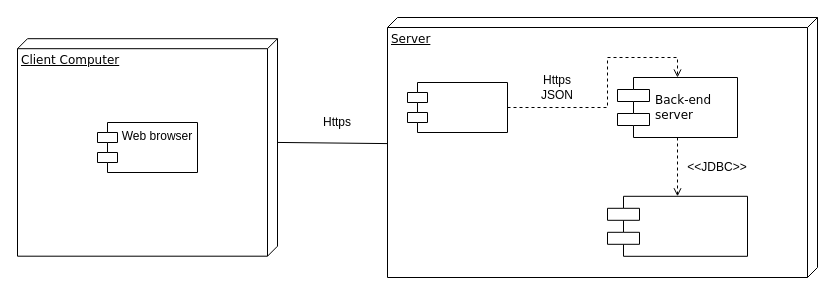
Some shapes in this 835 by 295 pixel diagram are drawn without their labels. The centre of each missing label's shape, as x and y in pixels:
Angular Server: the point at 457,107
«database» DB Postgres: the point at 677,225
